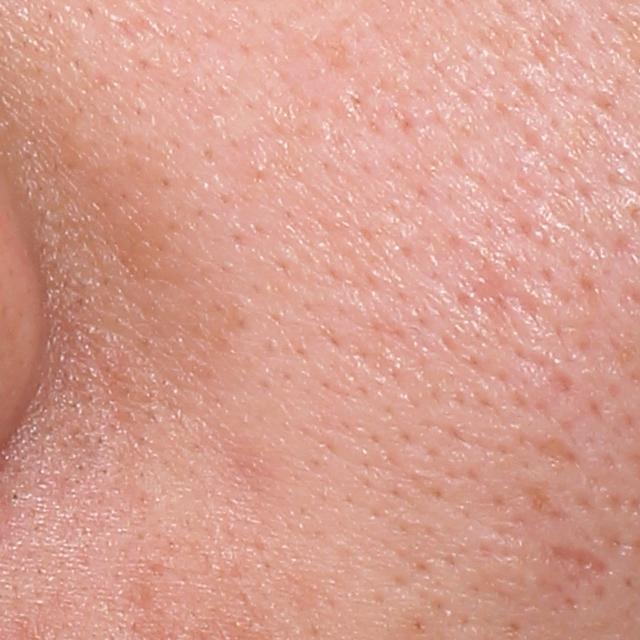atrophic_scar: (439, 250, 562, 375), (544, 542, 613, 586), (515, 431, 587, 468)
